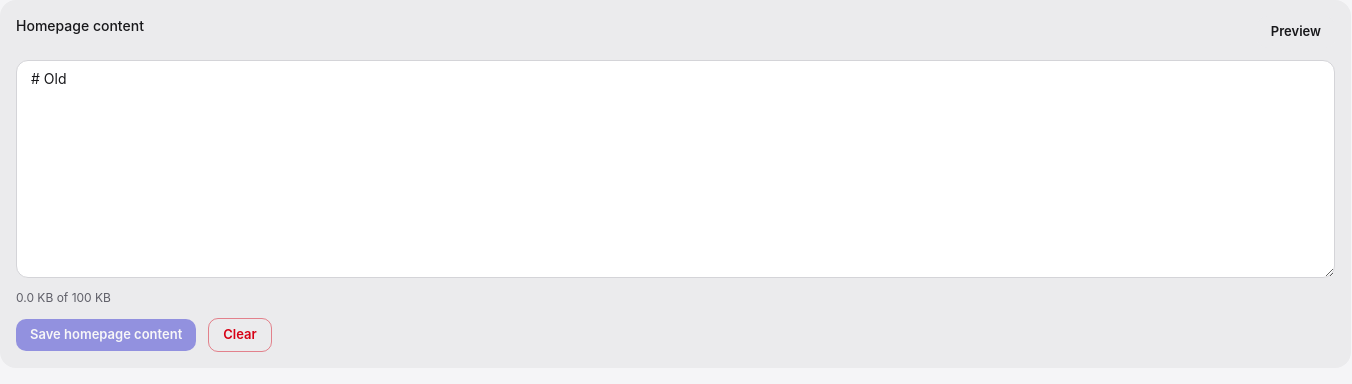
Test: InstanceDocumentEditor (homepage flavor) › loads the stored document and saves the edited body via PUT
Expected: the button "Save homepage content" is disabled, 16,319 -> 196,351
Replace the text in the text box named "Homepage content" with "# Welcome" at (676, 169), box 16,60 -> 1335,278
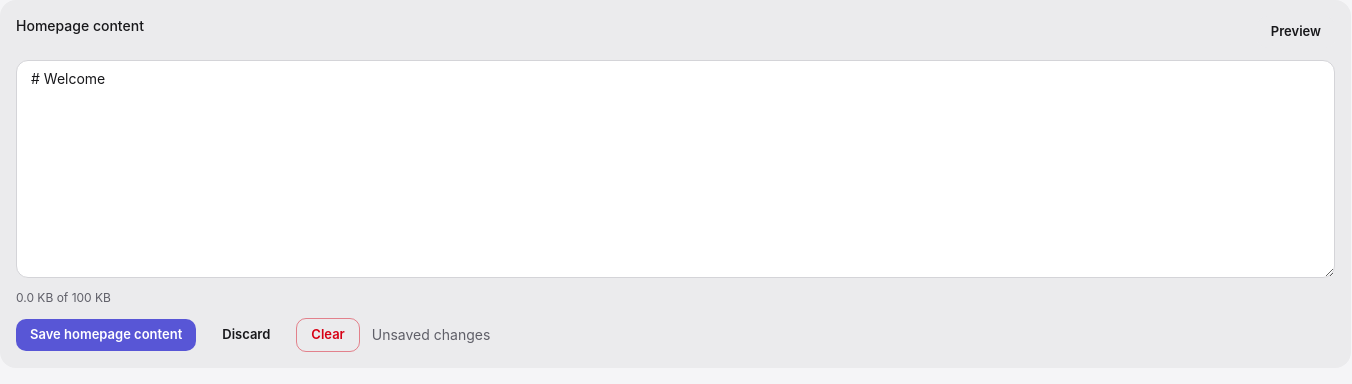
Expected: the text "Unsaved changes" is shown, 372,325 -> 490,345
Click the button "Save homepage content".
click(106, 335)  # box 16,319 -> 196,351
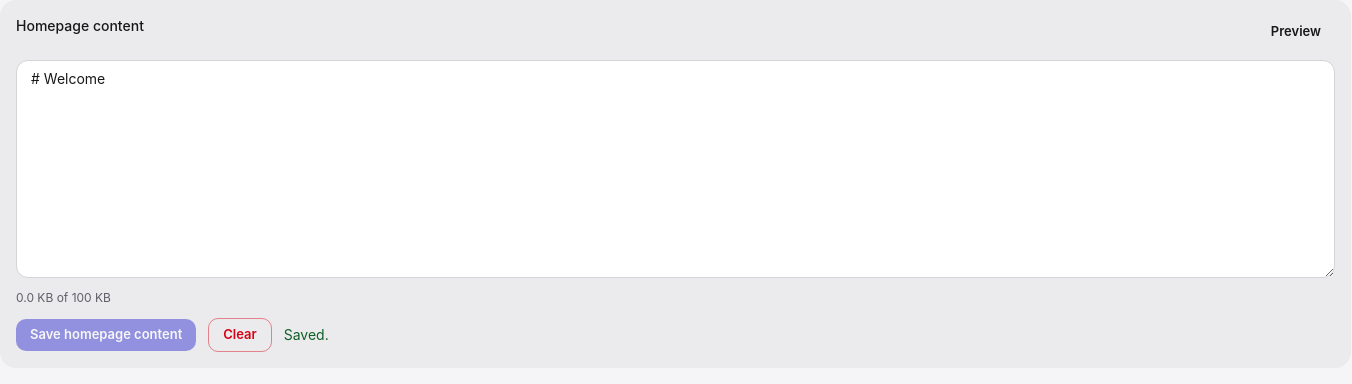
Expected: the text "Saved." is shown, 284,325 -> 329,345
Expected: the text "Unsaved changes" is gone
